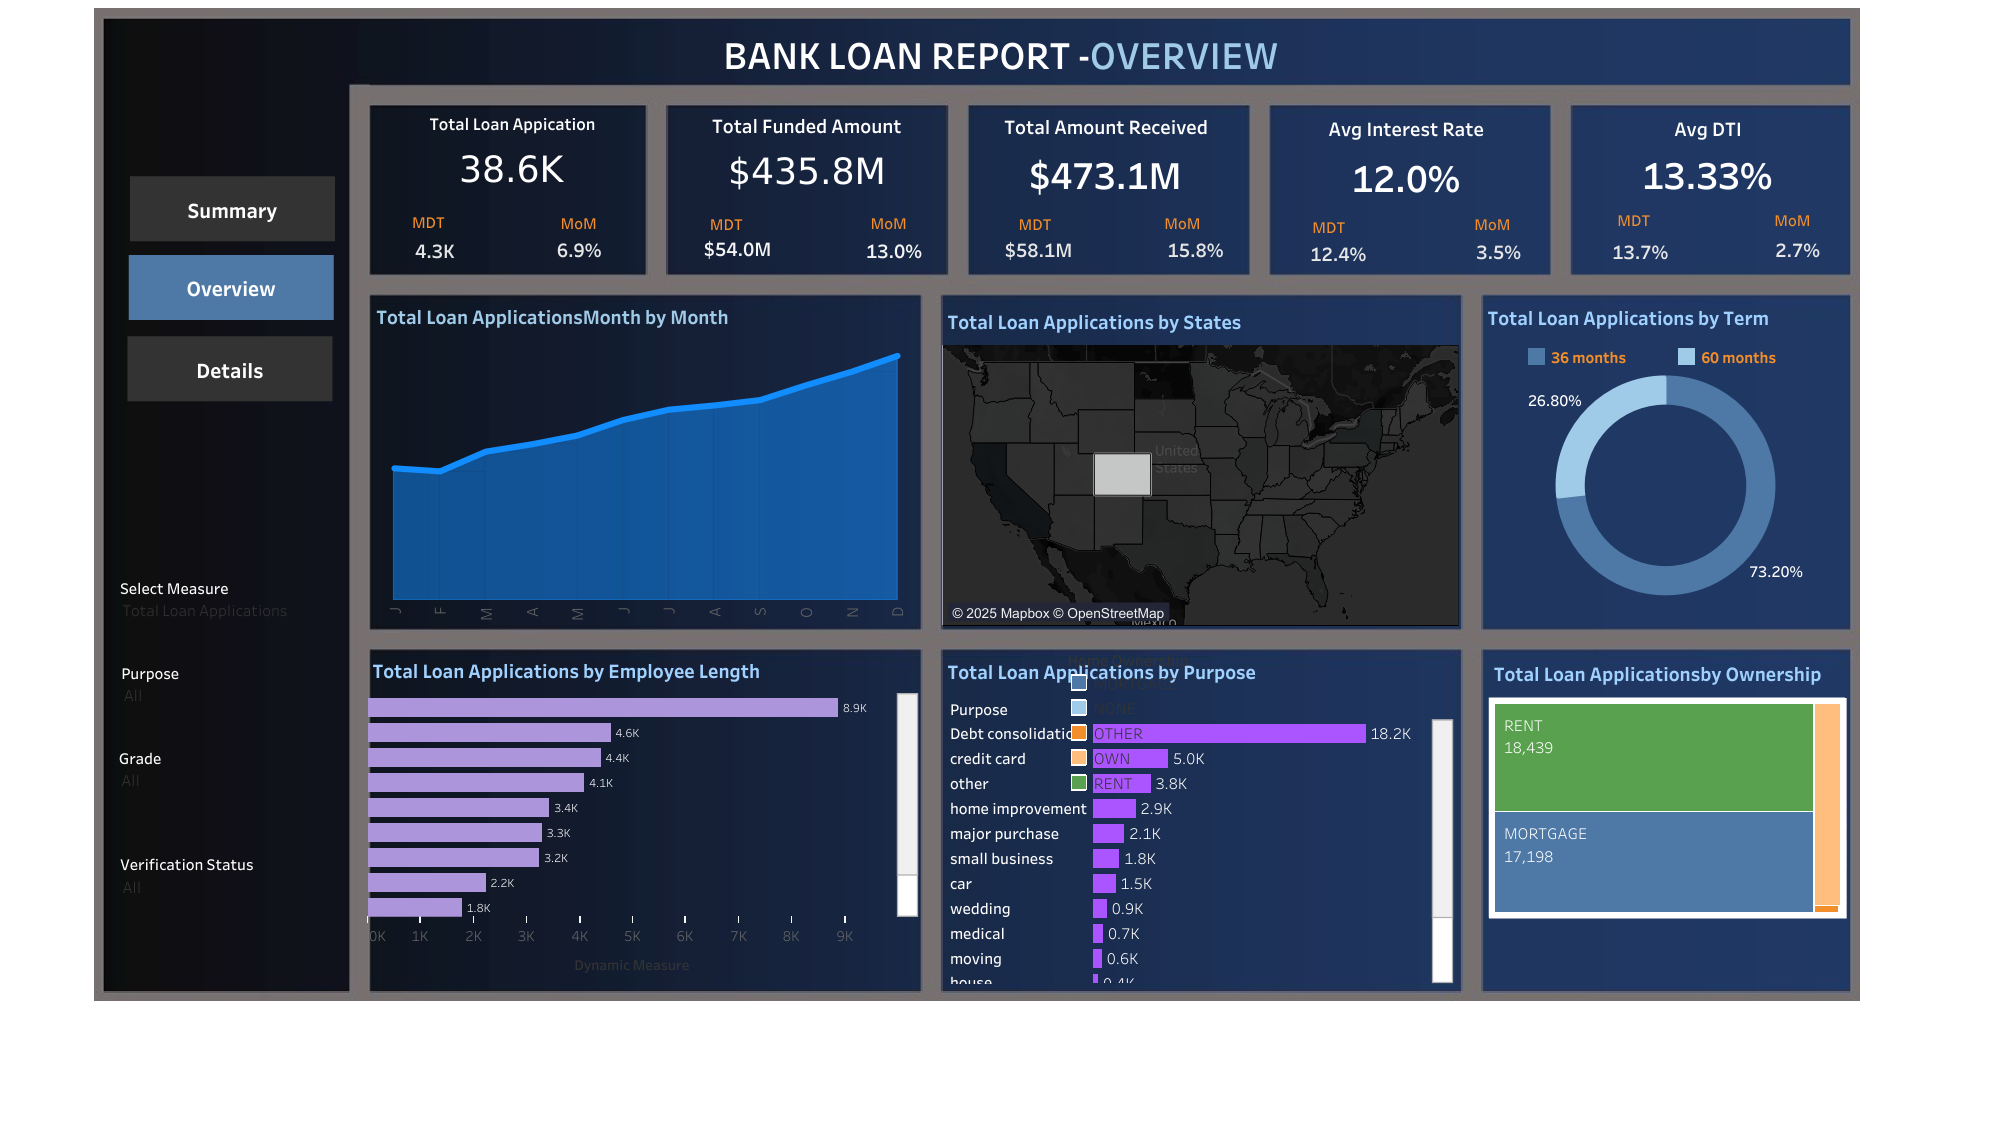

Layout of this report page (visuals, bound fields, positions):
{"tool":"tableau","page":{"name":"OVERVIEW","canvas":[1600,900],"ordinal":1},"visuals":[{"type":"text","box":[576,20,611,46]},{"type":"worksheet","title":"Total Loan Appication","mark":"Automatic","box":[299,83,222,72]},{"type":"worksheet","title":"Total Funded Amount","mark":"Automatic","box":[534,83,223,72]},{"type":"worksheet","title":"Total Amount Received","mark":"Automatic","box":[775,84,220,74]},{"type":"worksheet","title":"Avg Interest Rate ","mark":"Automatic","box":[1018,86,214,74]},{"type":"worksheet","title":"Avg  DTI","mark":"Automatic","box":[1257,86,219,71]},{"type":"dashboard-object","box":[104,141,164,52]},{"type":"text","box":[661,160,100,35]},{"type":"text","box":[1257,161,100,30]},{"type":"text","box":[1384,161,100,30]},{"type":"text","box":[327,162,38,30]},{"type":"text","box":[896,163,100,30]},{"type":"text","box":[531,164,100,30]},{"type":"text","box":[778,164,100,30]},{"type":"text","box":[1144,164,100,30]},{"type":"worksheet","title":"MoM Avg Int Rate","mark":"Automatic","box":[1172,164,54,56]},{"type":"text","box":[1013,166,100,30]},{"type":"text","box":[435,167,56,21]},{"type":"worksheet","title":"MoM Avg DTI","mark":"Automatic","box":[1403,167,70,45]},{"type":"worksheet","title":"MoM Total amount Received","mark":"Automatic","box":[924,185,65,29]},{"type":"worksheet","title":"MTD Total Funded Amount","mark":"Automatic","box":[552,186,77,24]},{"type":"worksheet","title":"MDT Avg Int Rate","mark":"Automatic","box":[1035,186,71,32]},{"type":"worksheet","title":"MDT Avg DTI","mark":"Automatic","box":[1277,186,71,30]},{"type":"worksheet","title":"MoM Loan Applications","mark":"Automatic","box":[438,187,51,24]},{"type":"worksheet","title":"MoM Total Funded amount","mark":"Automatic","box":[685,187,62,26]},{"type":"worksheet","title":"MTD Loan Applications","mark":"Automatic","box":[324,188,49,24]},{"type":"worksheet","title":"MTD Total Amount Received","mark":"Automatic","box":[793,189,78,22]},{"type":"dashboard-object","box":[103,204,164,52]},{"type":"worksheet","title":"Month","mark":"Area","rows":["Calculation_1014998802723463201","Calculation_1014998802723463201"],"cols":["issue_date"],"box":[297,236,439,267]},{"type":"worksheet","title":"Term","mark":"Pie","rows":["Calculation_1014998802734120995","Calculation_1014998802734120995"],"box":[1186,237,292,267]},{"type":"worksheet","title":"State","mark":"Automatic","box":[754,240,412,260]},{"type":"dashboard-object","box":[102,269,164,52]},{"type":"legend","title":"Term","param":"[federated.0kz0aj01wvldix11vdus30y9d7lb].[none:term:nk]","box":[1219,275,250,22]},{"type":"parameter","param":"[Parameters].[Parameter 1]","box":[96,460,174,48]},{"type":"legend","title":"Home Ownership","param":"[federated.0kz0aj01wvldix11vdus30y9d7lb].[none:home_ownership:nk]","box":[853,517,140,127]},{"type":"worksheet","title":"Emp Length","mark":"Automatic","rows":["emp_length"],"cols":["Calculation_1014998802723463201"],"box":[294,519,441,267]},{"type":"worksheet","title":"Purpose","mark":"Automatic","rows":["purpose"],"cols":["Calculation_1014998802723463201"],"box":[754,520,409,266]},{"type":"worksheet","title":"Home Ownership","mark":"Automatic","box":[1191,522,285,268]},{"type":"filter","title":"Avg  DTI","param":"[federated.0kz0aj01wvldix11vdus30y9d7lb].[none:purpose:nk]","box":[97,528,174,48]},{"type":"filter","title":"Avg  DTI","param":"[federated.0kz0aj01wvldix11vdus30y9d7lb].[none:grade:nk]","box":[95,596,176,59]},{"type":"filter","title":"Avg  DTI","param":"[federated.0kz0aj01wvldix11vdus30y9d7lb].[none:verification_status:nk]","box":[96,681,176,60]}]}

Visuals, with their boxes in screenshot pixels (x1, y1, x2, y2), scaled from the page's 1600x900 canvas onto the 1999x1124 screenshot:
text: x1=720 y1=25 x2=1483 y2=82
"Total Loan Appication" worksheet: x1=374 y1=104 x2=651 y2=194
"Total Funded Amount" worksheet: x1=667 y1=104 x2=946 y2=194
"Total Amount Received" worksheet: x1=968 y1=105 x2=1243 y2=197
"Avg Interest Rate " worksheet: x1=1272 y1=107 x2=1539 y2=200
"Avg  DTI" worksheet: x1=1570 y1=107 x2=1844 y2=196
dashboard-object: x1=130 y1=176 x2=335 y2=241
text: x1=826 y1=200 x2=951 y2=244
text: x1=1570 y1=201 x2=1695 y2=239
text: x1=1729 y1=201 x2=1854 y2=239
text: x1=409 y1=202 x2=456 y2=240
text: x1=1119 y1=204 x2=1244 y2=241
text: x1=663 y1=205 x2=788 y2=242
text: x1=972 y1=205 x2=1097 y2=242
text: x1=1429 y1=205 x2=1554 y2=242
"MoM Avg Int Rate" worksheet: x1=1464 y1=205 x2=1532 y2=275
text: x1=1266 y1=207 x2=1391 y2=245
text: x1=543 y1=209 x2=613 y2=235
"MoM Avg DTI" worksheet: x1=1753 y1=209 x2=1840 y2=265
"MoM Total amount Received" worksheet: x1=1154 y1=231 x2=1236 y2=267
"MTD Total Funded Amount" worksheet: x1=690 y1=232 x2=786 y2=262
"MDT Avg Int Rate" worksheet: x1=1293 y1=232 x2=1382 y2=272
"MDT Avg DTI" worksheet: x1=1595 y1=232 x2=1684 y2=270
"MoM Loan Applications" worksheet: x1=547 y1=234 x2=611 y2=264
"MoM Total Funded amount" worksheet: x1=856 y1=234 x2=933 y2=266
"MTD Loan Applications" worksheet: x1=405 y1=235 x2=466 y2=265
"MTD Total Amount Received" worksheet: x1=991 y1=236 x2=1088 y2=264
dashboard-object: x1=129 y1=255 x2=334 y2=320
"Month" worksheet (Area marks): x1=371 y1=295 x2=920 y2=628
"Term" worksheet (Pie marks): x1=1482 y1=296 x2=1847 y2=629
"State" worksheet: x1=942 y1=300 x2=1457 y2=624
dashboard-object: x1=127 y1=336 x2=332 y2=401
"Term" legend: x1=1523 y1=343 x2=1835 y2=371
parameter: x1=120 y1=574 x2=337 y2=634
"Home Ownership" legend: x1=1066 y1=646 x2=1241 y2=804
"Emp Length" worksheet: x1=367 y1=648 x2=918 y2=982
"Purpose" worksheet: x1=942 y1=649 x2=1453 y2=982
"Home Ownership" worksheet: x1=1488 y1=652 x2=1844 y2=987
"Avg  DTI" filter: x1=121 y1=659 x2=339 y2=719
"Avg  DTI" filter: x1=119 y1=744 x2=339 y2=818
"Avg  DTI" filter: x1=120 y1=850 x2=340 y2=925
